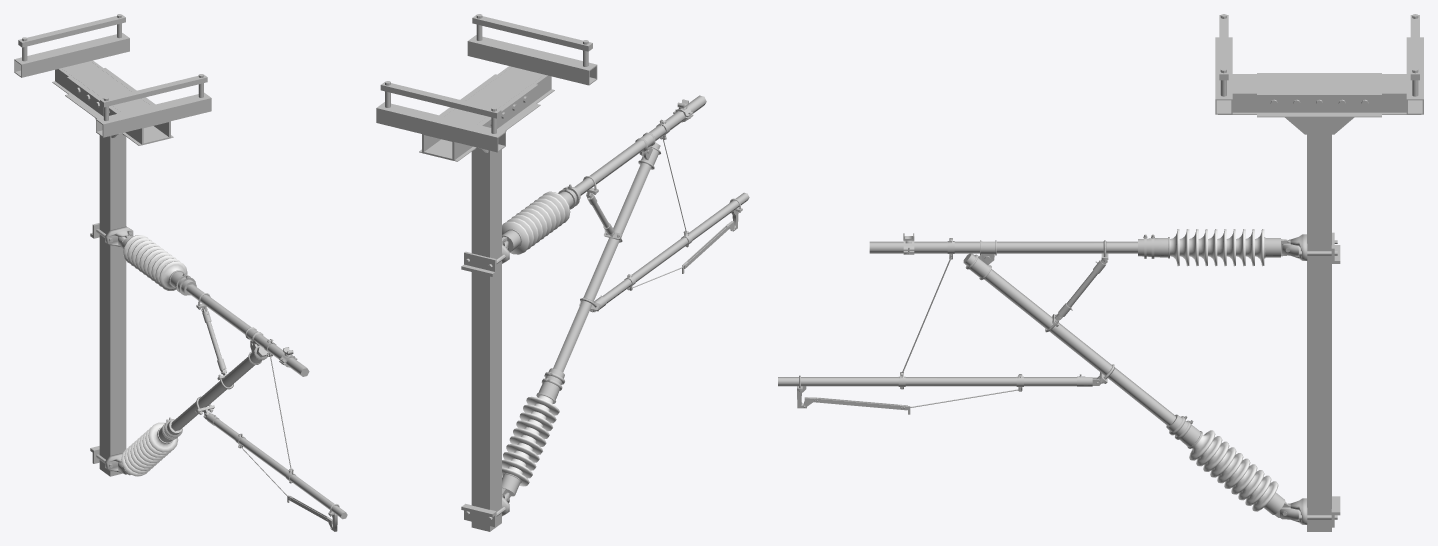
Rendered from gantry_short_single_anti.obj.
The picture shows the model from 3 angles, left to right: view 1: azimuth 30°, elevation 25°; view 2: azimuth 150°, elevation 25°; view 3: azimuth 270°, elevation 25°; orthographic projection. The views are drawn at different scales.
Visible parts, largest first — view 1: 立方体.106, 立方体.098, 立方体.096, 立方体.103, 贝塞尔曲线.047, 贝塞尔曲线.045, 贝塞尔曲线.046, 立方体.105, 立方体.097, 立方体.095, 立方体.104, 1.013 (+2 smaller); view 2: 立方体.106, 立方体.096, 立方体.098, 贝塞尔曲线.046, 立方体.103, 贝塞尔曲线.045, 贝塞尔曲线.047, 立方体.105, 立方体.097, 立方体.095, 立方体.104, 立方体.161 (+2 smaller); view 3: 立方体.106, 立方体.103, 贝塞尔曲线.046, 贝塞尔曲线.047, 立方体.105, 贝塞尔曲线.045, 立方体.096, 立方体.098, 立方体.104.
Boxes of the visible parts, x1,y1,x2,y2 form: 立方体.106: [99, 134, 126, 476]; 立方体.098: [14, 33, 129, 77]; 立方体.096: [96, 92, 211, 137]; 立方体.103: [58, 60, 155, 113]; 贝塞尔曲线.047: [186, 284, 309, 376]; 贝塞尔曲线.045: [213, 419, 347, 519]; 贝塞尔曲线.046: [171, 346, 267, 431]; 立方体.105: [55, 69, 170, 145]; 立方体.097: [18, 15, 125, 47]; 立方体.095: [100, 74, 207, 107]; 立方体.104: [52, 81, 173, 145]; 1.013: [96, 226, 133, 247]; 立方体.106: [471, 148, 501, 531]; 立方体.096: [467, 35, 597, 85]; 立方体.098: [376, 102, 505, 152]; 贝塞尔曲线.046: [553, 142, 660, 372]; 立方体.103: [439, 66, 548, 125]; 贝塞尔曲线.045: [602, 192, 749, 303]; 贝塞尔曲线.047: [574, 95, 706, 195]; 立方体.105: [422, 76, 551, 160]; 立方体.097: [380, 82, 501, 118]; 立方体.095: [472, 15, 592, 51]; 立方体.104: [419, 89, 554, 161]; 立方体.161: [461, 251, 496, 276]; 立方体.106: [1307, 117, 1331, 531]; 立方体.103: [1232, 73, 1406, 95]; 贝塞尔曲线.046: [963, 253, 1175, 426]; 贝塞尔曲线.047: [869, 241, 1137, 253]; 立方体.105: [1232, 94, 1406, 112]; 贝塞尔曲线.045: [778, 377, 1076, 386]; 立方体.096: [1215, 37, 1232, 114]; 立方体.098: [1406, 37, 1423, 114]; 立方体.104: [1218, 112, 1420, 117].
Size of the model in its own units: 0.9365 by 3.42 by 4.13.
